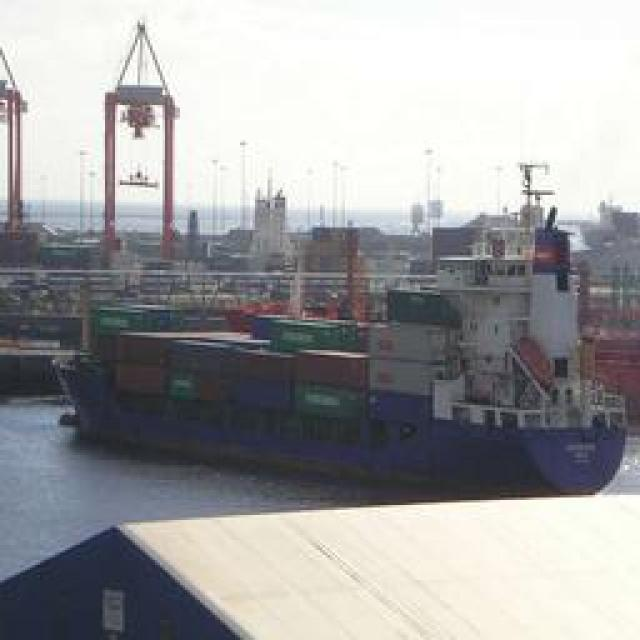ship2: (56, 161, 625, 493)
